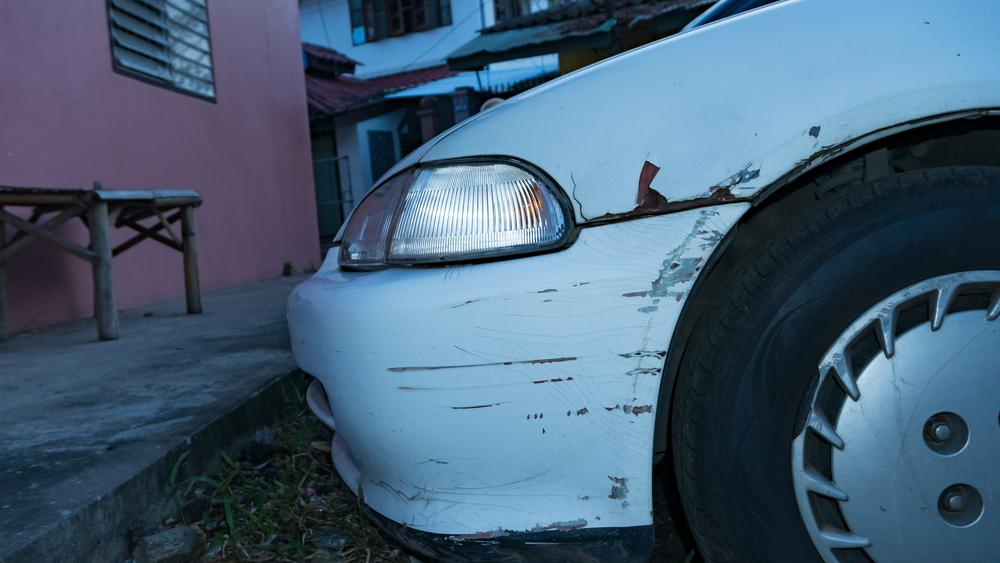crack: (571, 173, 588, 221)
scratch: (378, 208, 732, 535)
